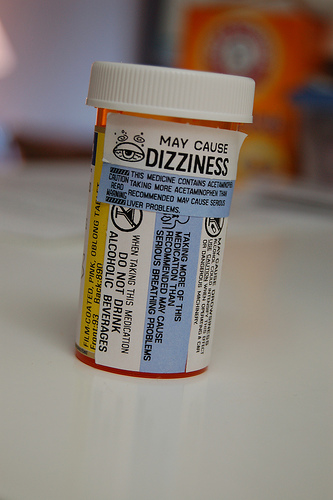pill bottle: (71, 57, 258, 384)
